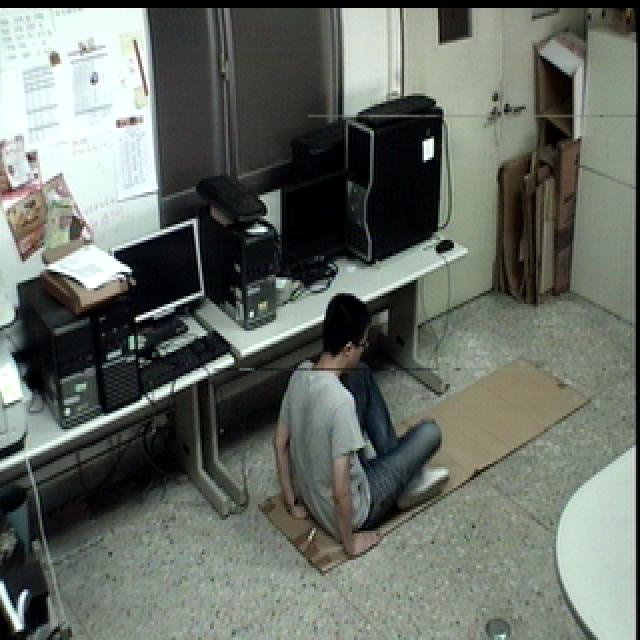sit: (269, 282, 453, 560)
